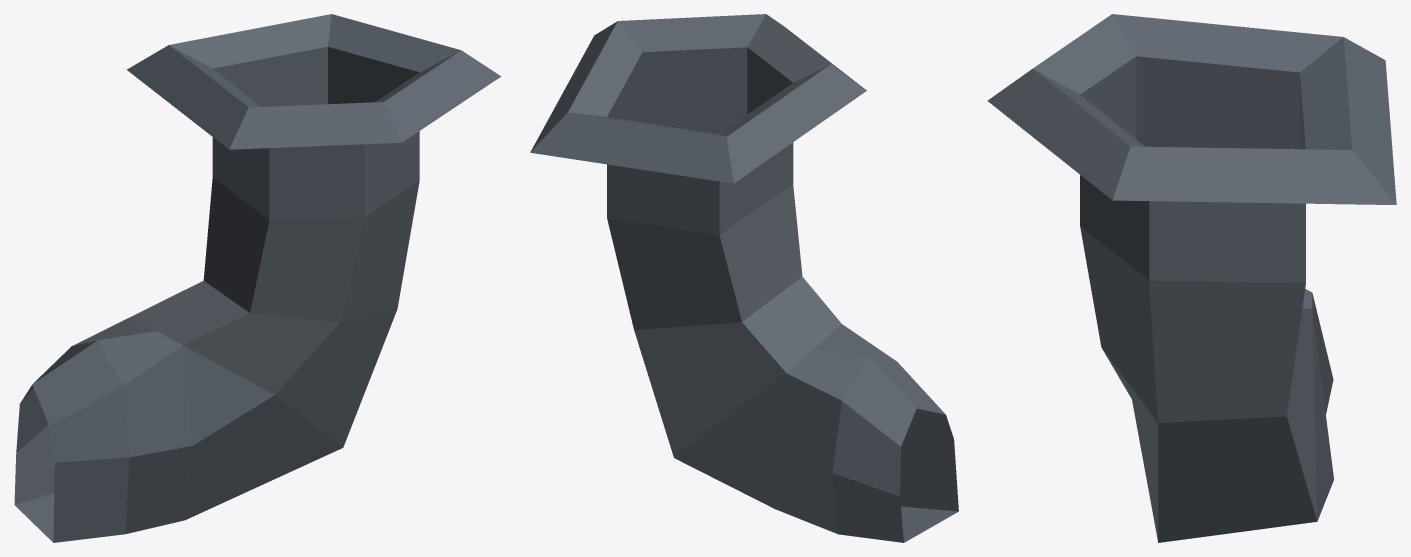
Rendered from Tunnel-F07.fbx.
3 renders of one model, left to right at view 1: azimuth 30°, elevation 25°; view 2: azimuth 150°, elevation 25°; view 3: azimuth 270°, elevation 25°, orthographic. The views are drawn at different scales.
Visible parts, largest first — view 1: Tunnel-F07; view 2: Tunnel-F07; view 3: Tunnel-F07.
Part boxes in pixels (<box>): Tunnel-F07: <box>14,14,501,542</box>; Tunnel-F07: <box>530,14,958,542</box>; Tunnel-F07: <box>987,14,1396,542</box>.
Bounding box in the file's own units: 831 × 817 × 581.
